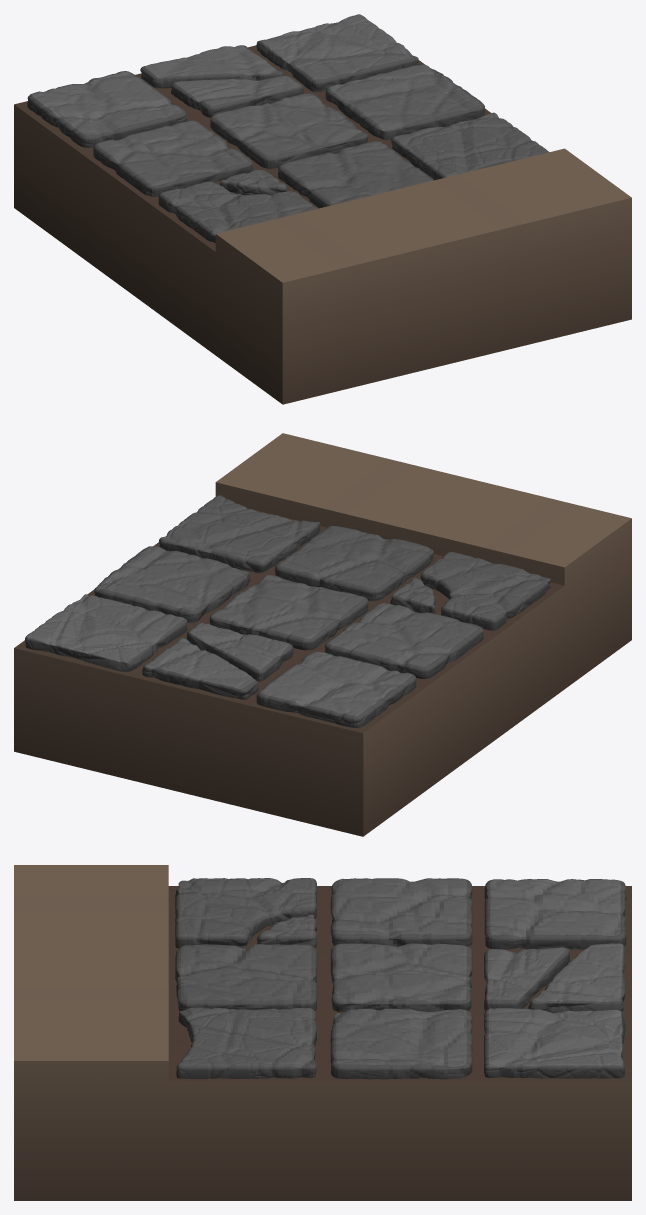
Rendered from Tile2.fbx.
The picture shows the model from 3 angles, top to bottom: view 1: azimuth 30°, elevation 25°; view 2: azimuth 150°, elevation 25°; view 3: azimuth 270°, elevation 25°; orthographic projection. The views are drawn at different scales.
Parts seen in each view (by area): view 1: Floor.001, Cube.002; view 2: Floor.001, Cube.002; view 3: Floor.001, Cube.002.
Boxes of the visible parts, x1,y1,x2,y2 form: Floor.001: [14, 45, 631, 404]; Cube.002: [27, 14, 549, 243]; Floor.001: [14, 433, 631, 836]; Cube.002: [25, 495, 550, 727]; Floor.001: [14, 865, 631, 1200]; Cube.002: [175, 878, 626, 1079].
Bounding box in the file's own units: 600 × 200 × 800.
